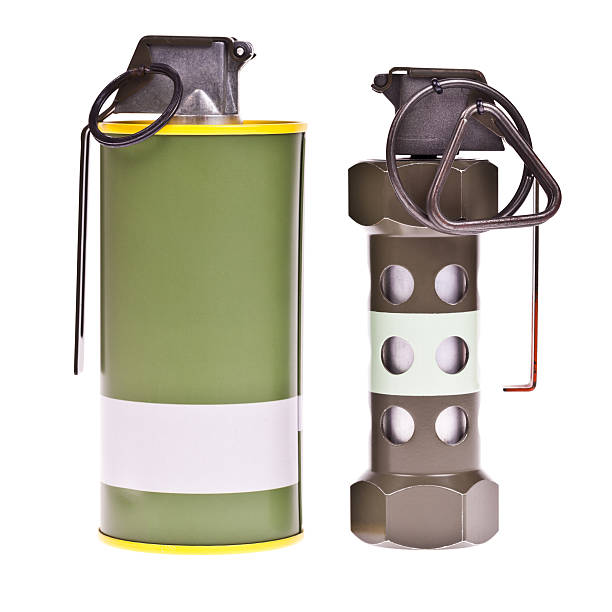e1: (70, 36, 305, 553), (340, 63, 561, 559)
